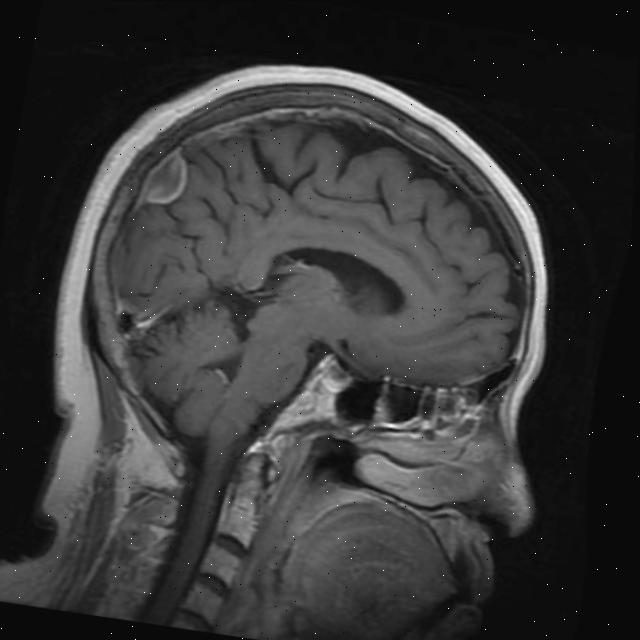Meningioma: (137, 148, 193, 212)
Pituitary: (316, 356, 358, 397)
